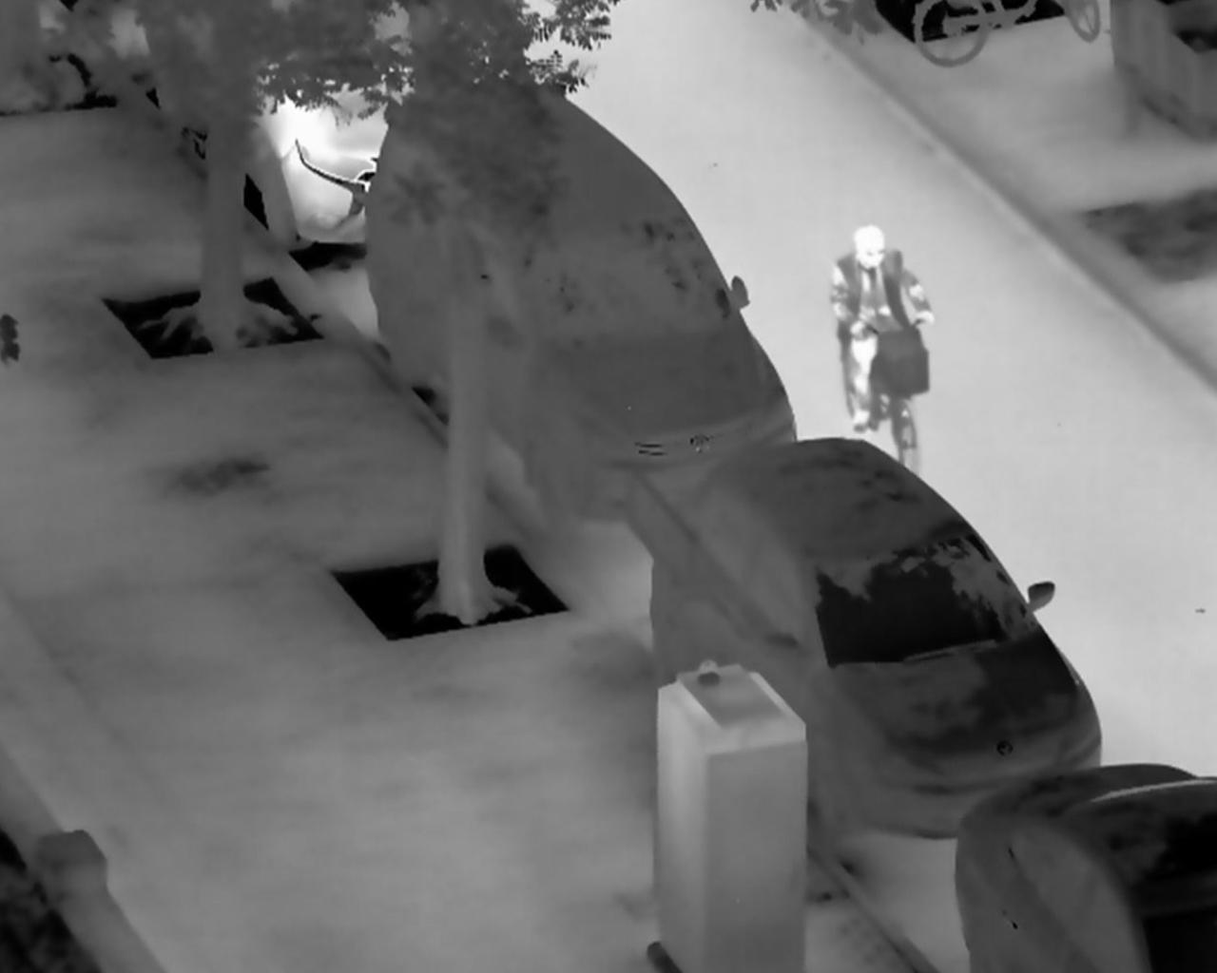person: (829, 223, 936, 434)
